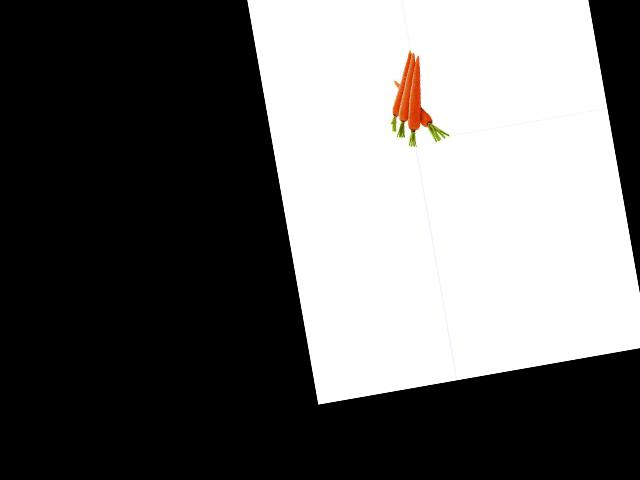carrot: (413, 102, 442, 137)
